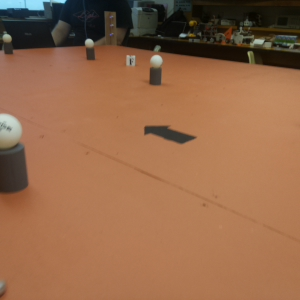blockF: (125, 54, 137, 66)
corner: (104, 11, 117, 48)
obstacle: (1, 113, 30, 198), (150, 54, 164, 87), (1, 34, 13, 53), (86, 38, 95, 62)
start: (143, 121, 197, 149)
